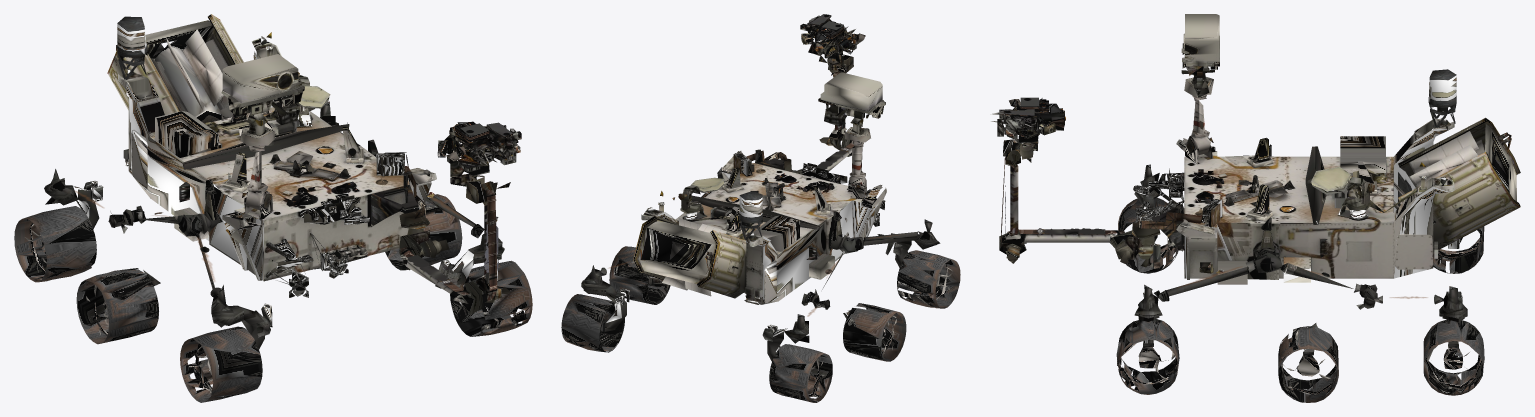
Rendered from usa_curiosity.glb.
3 views of the same model, side by side, from view 1: azimuth 30°, elevation 25°; view 2: azimuth 150°, elevation 25°; view 3: azimuth 270°, elevation 25° (orthographic). The views are drawn at different scales.
Size of the model in its own units: 2.78 by 2.21 by 3.94.
9 materials, 8 textured.
